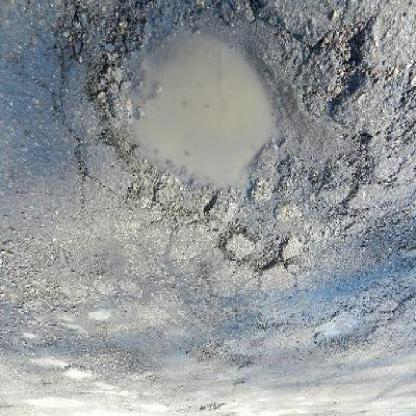pothole: (84, 4, 369, 234), (246, 237, 292, 277)
